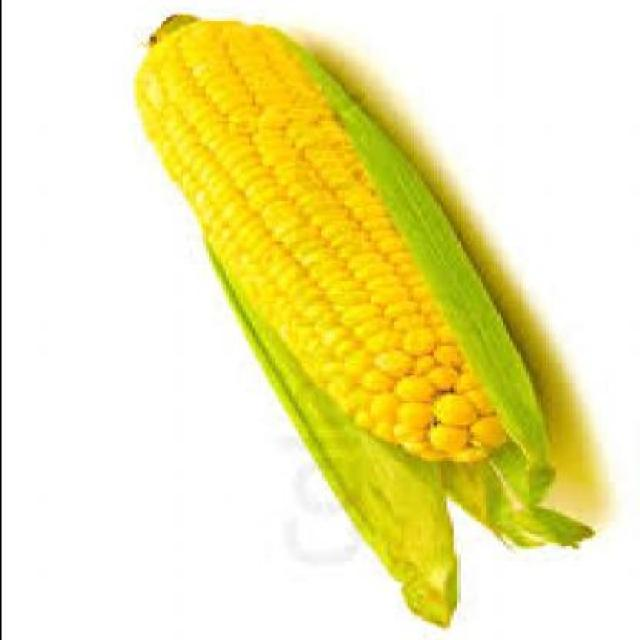BIODEGRADABLE: (132, 14, 595, 631)
